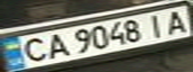0: (90, 24, 112, 51)
4: (106, 20, 130, 47)
8: (121, 17, 148, 43)
9: (69, 26, 93, 55)
A: (42, 30, 72, 60), (160, 8, 193, 35)
C: (15, 35, 51, 64)
I: (142, 11, 172, 38)
